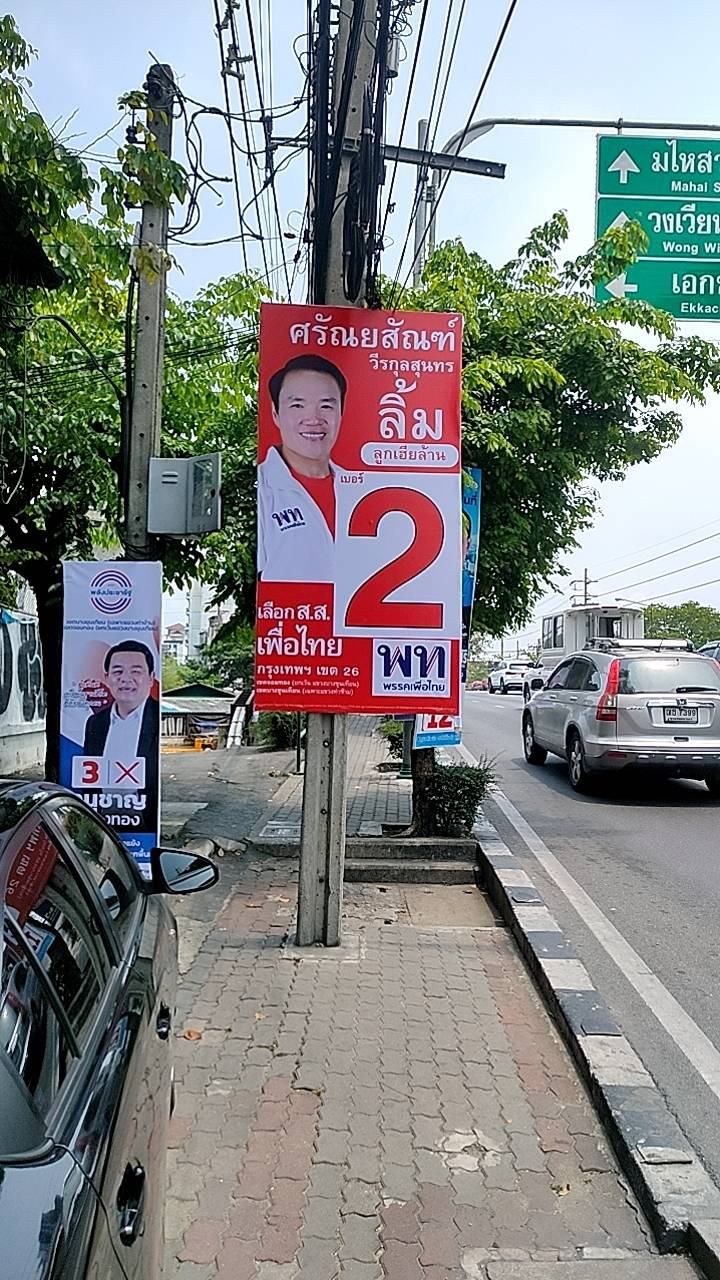Banner: (246, 300, 478, 723), (48, 557, 170, 905)
